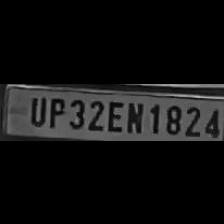1: (144, 100, 162, 134)
2: (86, 96, 104, 130), (182, 102, 200, 136)
3: (65, 96, 84, 128)
4: (201, 103, 219, 137)
8: (162, 101, 182, 135)
E: (105, 97, 123, 133)
N: (124, 99, 144, 133)
P: (45, 94, 65, 128)
U: (25, 93, 45, 126)
